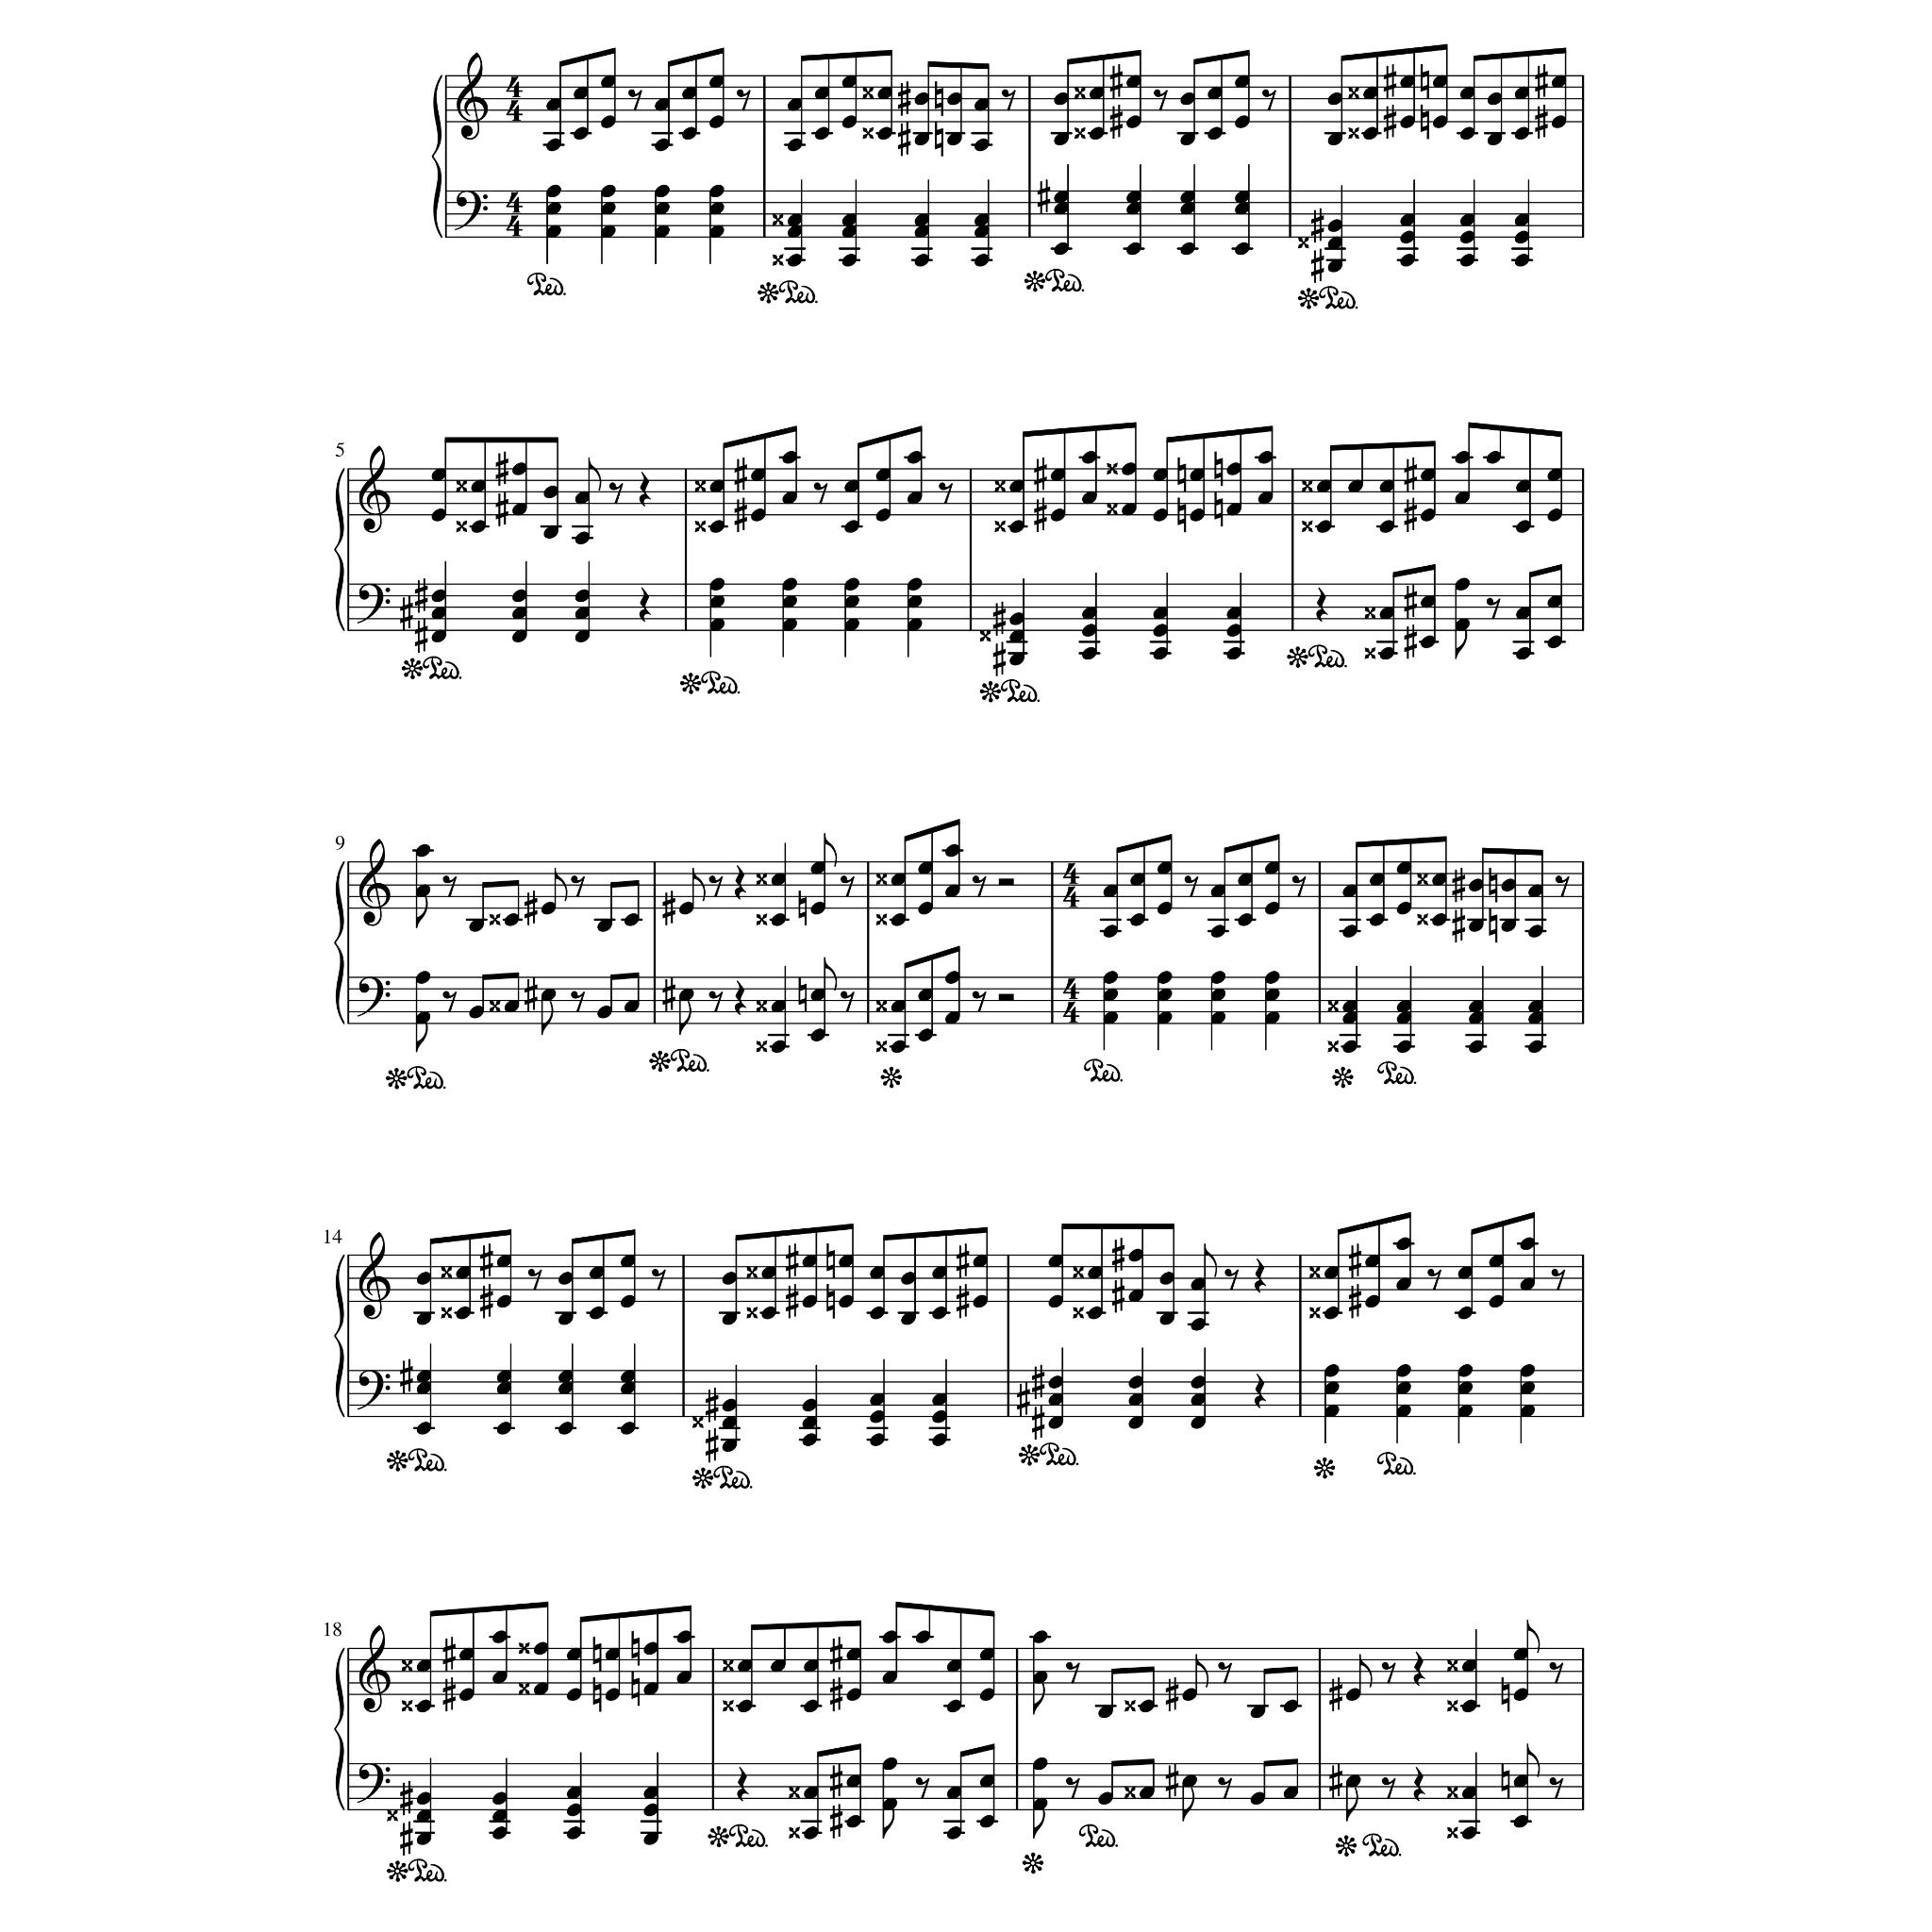brace: (333, 1647, 345, 1812), (333, 469, 345, 632), (333, 862, 345, 1024), (333, 1254, 345, 1417), (432, 74, 442, 239)
fClef: (453, 191, 488, 232), (357, 584, 391, 625), (357, 977, 391, 1017), (357, 1369, 391, 1410), (357, 1762, 391, 1803)
flag8thDown: (541, 1000, 554, 1035), (416, 893, 428, 929), (679, 1000, 692, 1035), (1454, 626, 1467, 660), (416, 1019, 428, 1053), (1182, 1787, 1194, 1821), (1033, 1805, 1046, 1838), (1033, 1681, 1046, 1714), (1346, 1787, 1359, 1821), (883, 1805, 895, 1838)
flag8thUp: (823, 833, 837, 869), (1527, 1743, 1541, 1778), (587, 458, 602, 492), (692, 869, 706, 902), (823, 957, 837, 991), (1203, 1244, 1217, 1277), (1527, 1621, 1541, 1654), (1359, 1654, 1373, 1688), (556, 869, 568, 902), (1196, 1654, 1208, 1688)
gClef: (456, 51, 488, 140), (359, 446, 391, 534), (359, 839, 391, 927), (359, 1231, 391, 1320), (359, 1624, 391, 1713)
noteheadBlack: (545, 202, 563, 216), (545, 225, 563, 239), (545, 97, 563, 111), (545, 138, 563, 152), (573, 589, 591, 603), (573, 630, 591, 644), (1341, 924, 1359, 938), (1341, 885, 1359, 899), (1341, 1040, 1359, 1054), (1341, 1000, 1359, 1014), (502, 913, 520, 927), (502, 1000, 520, 1014), (1127, 1375, 1145, 1389), (1127, 1415, 1145, 1430), (1127, 1288, 1145, 1302), (587, 1306, 605, 1320), (587, 1265, 605, 1279), (971, 1254, 989, 1269), (971, 1295, 989, 1309), (1235, 242, 1251, 257), (1235, 202, 1251, 216), (1207, 87, 1223, 101), (1327, 219, 1343, 234), (1327, 260, 1343, 274), (1327, 92, 1343, 106), (1327, 133, 1343, 147), (1090, 87, 1106, 101), (1180, 202, 1196, 216), (1180, 242, 1196, 257), (1180, 92, 1196, 106), (1180, 133, 1196, 147), (1125, 202, 1141, 216), (1125, 242, 1141, 257), (1514, 253, 1530, 267), (1514, 87, 1530, 101), (1486, 92, 1502, 106), (1486, 133, 1502, 147), (1399, 253, 1415, 267), (1362, 87, 1378, 101), (1460, 253, 1476, 267), (1460, 87, 1476, 101), (709, 202, 725, 216), (709, 225, 725, 239), (681, 87, 697, 101), (655, 202, 671, 216), (655, 225, 671, 239), (655, 97, 671, 111), (655, 138, 671, 152), (786, 97, 801, 111), (786, 225, 801, 239), (786, 253, 801, 267), (786, 138, 801, 152), (600, 202, 616, 216), (600, 225, 616, 239), (573, 87, 589, 101), (947, 92, 962, 106), (947, 133, 962, 147), (913, 225, 929, 239), (913, 253, 929, 267), (913, 92, 929, 106), (913, 133, 929, 147), (975, 225, 991, 239), (975, 253, 991, 267), (975, 97, 991, 111), (975, 138, 991, 152), (840, 225, 856, 239), (840, 253, 856, 267), (814, 87, 830, 101), (878, 87, 893, 101), (1316, 520, 1332, 534), (1226, 625, 1242, 639), (1226, 502, 1242, 517), (1316, 479, 1332, 494), (1081, 625, 1097, 639), (1049, 467, 1065, 481), (1049, 508, 1065, 522), (1152, 625, 1168, 639), (1189, 467, 1205, 481), (1189, 508, 1205, 522), (1152, 467, 1168, 481), (1152, 508, 1168, 522), (1122, 502, 1138, 517), (1546, 594, 1562, 609), (1546, 635, 1562, 649), (1546, 467, 1562, 481), (1546, 508, 1562, 522), (1516, 479, 1532, 494), (1516, 520, 1532, 534), (1419, 594, 1435, 609), (1419, 635, 1435, 649), (1419, 467, 1435, 481), (1419, 508, 1435, 522), (1378, 479, 1394, 494), (1378, 520, 1394, 534), (1346, 479, 1362, 494), (1454, 617, 1470, 632), (709, 594, 725, 609), (709, 617, 725, 632), (709, 479, 725, 494), (709, 520, 725, 534), (430, 589, 446, 603), (430, 630, 446, 644), (430, 467, 446, 481), (430, 508, 446, 522), (511, 589, 527, 603), (511, 630, 527, 644), (511, 502, 527, 517), (471, 479, 487, 494), (471, 520, 487, 534), (906, 617, 922, 632), (906, 594, 922, 609), (876, 467, 892, 481), (876, 508, 892, 522), (782, 594, 798, 609), (782, 617, 798, 632), (750, 467, 766, 481), (750, 508, 766, 522), (844, 520, 860, 534), (844, 617, 860, 632), (844, 594, 860, 609), (844, 479, 860, 494), (1210, 924, 1226, 938), (1210, 885, 1226, 899), (1131, 913, 1146, 927), (1237, 913, 1253, 927), (945, 885, 961, 899), (945, 844, 961, 858), (1102, 924, 1118, 938), (1102, 885, 1118, 899), (1527, 924, 1543, 938), (1527, 885, 1543, 899), (1527, 1040, 1543, 1054), (1527, 1000, 1543, 1014), (1467, 1000, 1483, 1014), (1500, 918, 1516, 932), (1500, 878, 1516, 892), (1368, 913, 1384, 927), (1431, 913, 1447, 927), (1467, 918, 1483, 932), (1467, 878, 1483, 892), (1467, 1040, 1483, 1054), (1396, 1040, 1412, 1054), (1396, 1000, 1412, 1014), (596, 918, 612, 932), (596, 1005, 612, 1019), (623, 913, 639, 927), (623, 1000, 639, 1014), (414, 885, 430, 899), (414, 844, 430, 858), (469, 918, 485, 932), (469, 1005, 485, 1019), (890, 913, 906, 927), (890, 1040, 906, 1054), (890, 1000, 906, 1014), (810, 1028, 826, 1042), (918, 1028, 934, 1042), (770, 1040, 786, 1054), (770, 1000, 786, 1014), (770, 913, 786, 927), (1191, 1375, 1207, 1389), (1191, 1415, 1207, 1430), (1191, 1277, 1207, 1292), (1323, 1265, 1339, 1279), (1323, 1306, 1339, 1320), (1047, 1375, 1063, 1389), (1047, 1415, 1063, 1430), (1047, 1254, 1063, 1269), (1047, 1295, 1063, 1309), (1520, 1237, 1536, 1251), (1520, 1277, 1536, 1292), (1488, 1254, 1504, 1269), (1488, 1295, 1504, 1309), (1364, 1254, 1380, 1269), (1364, 1295, 1380, 1309), (1458, 1265, 1474, 1279), (1458, 1306, 1474, 1320), (1396, 1237, 1412, 1251), (1396, 1277, 1412, 1292), (557, 1369, 573, 1384), (722, 1398, 738, 1412), (722, 1415, 738, 1430), (722, 1438, 738, 1453), (621, 1369, 637, 1384), (621, 1254, 637, 1269), (621, 1295, 637, 1309), (416, 1369, 432, 1384), (495, 1369, 511, 1384), (495, 1254, 511, 1269), (495, 1295, 511, 1309), (455, 1265, 471, 1279), (455, 1306, 471, 1320), (869, 1410, 885, 1424), (869, 1265, 885, 1279), (869, 1306, 885, 1320), (839, 1254, 855, 1269), (839, 1295, 855, 1309), (932, 1265, 948, 1279), (932, 1410, 948, 1424), (932, 1306, 948, 1320), (761, 1306, 777, 1320), (801, 1254, 817, 1269), (801, 1295, 817, 1309), (801, 1415, 817, 1430), (761, 1265, 777, 1279), (801, 1398, 817, 1412), (1182, 1688, 1198, 1702), (1283, 1785, 1299, 1799), (1283, 1698, 1299, 1713), (1031, 1757, 1047, 1771), (1031, 1796, 1047, 1810), (1031, 1629, 1047, 1644), (1031, 1670, 1047, 1684), (1138, 1785, 1154, 1799), (1138, 1698, 1154, 1713), (1513, 1688, 1529, 1702), (1345, 1688, 1361, 1702), (1461, 1785, 1477, 1799), (1461, 1826, 1477, 1840), (1461, 1660, 1477, 1674), (1461, 1698, 1477, 1713), (566, 1826, 582, 1840), (566, 1803, 582, 1817), (566, 1785, 582, 1799), (566, 1688, 582, 1702), (605, 1688, 621, 1702), (738, 1698, 754, 1713), (676, 1629, 692, 1644), (676, 1670, 692, 1684), (642, 1785, 658, 1799), (642, 1803, 658, 1817), (642, 1831, 658, 1845), (416, 1698, 432, 1713), (416, 1660, 432, 1674), (416, 1831, 432, 1845), (416, 1808, 432, 1822), (492, 1808, 508, 1822), (492, 1826, 508, 1840), (492, 1629, 508, 1644), (492, 1670, 508, 1684), (458, 1688, 474, 1702), (881, 1796, 897, 1810), (881, 1670, 897, 1684), (881, 1629, 897, 1644), (881, 1757, 897, 1771), (738, 1660, 754, 1674), (846, 1688, 862, 1702), (947, 1660, 962, 1674), (978, 1688, 994, 1702), (947, 1785, 962, 1799), (947, 1826, 962, 1840), (947, 1698, 962, 1713), (915, 1629, 931, 1644), (770, 1660, 786, 1674), (803, 1826, 819, 1840), (803, 1785, 819, 1799), (803, 1660, 819, 1674), (803, 1698, 819, 1713), (545, 186, 563, 198), (1256, 451, 1274, 464), (1256, 492, 1274, 504), (573, 607, 591, 619), (573, 492, 591, 504), (573, 533, 591, 545), (1155, 971, 1173, 984), (1155, 902, 1173, 915), (1155, 862, 1173, 874), (1155, 1012, 1173, 1024), (1155, 989, 1173, 1001), (1341, 1012, 1359, 1024), (1127, 1394, 1145, 1407), (1127, 1249, 1145, 1261), (1054, 202, 1069, 216), (1054, 242, 1069, 257), (1054, 92, 1069, 106), (1054, 133, 1069, 147), (1010, 612, 1024, 626), (1010, 630, 1024, 644), (1010, 653, 1024, 667), (1010, 479, 1024, 494), (1010, 520, 1024, 534), (1088, 1265, 1102, 1279), (1088, 1306, 1102, 1320), (1235, 76, 1251, 88), (1235, 191, 1251, 203), (1235, 117, 1251, 129), (1207, 127, 1223, 140), (1327, 237, 1343, 249), (1125, 117, 1141, 129), (1090, 127, 1106, 140), (1125, 76, 1141, 88), (1180, 191, 1196, 203), (1125, 191, 1141, 203), (1514, 232, 1530, 244), (1514, 214, 1530, 226), (1514, 127, 1530, 140), (1399, 214, 1415, 226), (1399, 232, 1415, 244), (1399, 76, 1415, 88), (1399, 117, 1415, 129), (1362, 127, 1378, 140), (1460, 214, 1476, 226), (1460, 232, 1476, 244), (1460, 127, 1476, 140), (1431, 76, 1447, 88), (1431, 117, 1447, 129), (709, 186, 725, 198), (709, 76, 725, 88), (709, 117, 725, 129), (681, 127, 697, 140), (655, 186, 671, 198), (786, 214, 801, 226), (600, 117, 616, 129), (600, 186, 616, 198), (600, 76, 616, 88), (573, 127, 589, 140), (913, 214, 929, 226), (975, 214, 991, 226), (840, 117, 856, 129), (840, 214, 856, 226), (840, 76, 856, 88), (814, 127, 830, 140), (878, 127, 893, 140), (1226, 607, 1242, 619), (1226, 648, 1242, 660), (1226, 464, 1242, 476), (1081, 607, 1097, 619), (1081, 648, 1097, 660), (1081, 451, 1097, 464), (1081, 492, 1097, 504), (1152, 607, 1168, 619), (1152, 648, 1168, 660), (1122, 464, 1138, 476), (1516, 607, 1532, 619), (1516, 648, 1532, 660), (1378, 607, 1394, 619), (1378, 648, 1394, 660), (1454, 579, 1470, 591), (1486, 451, 1502, 464), (1454, 451, 1470, 464), (1454, 492, 1470, 504), (543, 487, 559, 499), (543, 525, 559, 538), (709, 579, 725, 591), (430, 607, 446, 619), (511, 464, 527, 476), (511, 607, 527, 619), (906, 579, 922, 591), (906, 451, 922, 464), (906, 492, 922, 504), (782, 579, 798, 591), (782, 451, 798, 464), (782, 492, 798, 504), (844, 579, 860, 591), (1210, 1012, 1226, 1024), (1131, 874, 1146, 886), (1263, 902, 1279, 915), (1263, 862, 1279, 874), (1263, 1012, 1279, 1024), (1263, 989, 1279, 1001), (1263, 971, 1279, 984), (1210, 989, 1226, 1001), (1237, 874, 1253, 886), (1210, 971, 1226, 984), (945, 1012, 961, 1024), (945, 971, 961, 984), (1102, 1012, 1118, 1024), (1102, 989, 1118, 1001), (1102, 971, 1118, 984), (1527, 1012, 1543, 1024), (1467, 1012, 1483, 1024), (1431, 874, 1447, 886), (1368, 874, 1384, 886), (1396, 902, 1412, 915), (1396, 862, 1412, 874), (1396, 1012, 1412, 1024), (540, 902, 556, 915), (540, 989, 556, 1001), (679, 902, 695, 915), (679, 989, 695, 1001), (414, 1012, 430, 1024), (414, 971, 430, 984), (890, 874, 906, 886), (810, 902, 826, 915), (810, 862, 826, 874), (810, 989, 826, 1001), (918, 902, 934, 915), (918, 862, 934, 874), (918, 989, 934, 1001), (770, 874, 786, 886), (1191, 1318, 1207, 1330), (1191, 1394, 1207, 1407), (1159, 1272, 1175, 1284), (1159, 1313, 1175, 1325), (1323, 1364, 1339, 1376), (1323, 1382, 1339, 1394), (1323, 1405, 1339, 1417), (1047, 1394, 1063, 1407), (1520, 1364, 1536, 1376), (1520, 1382, 1536, 1394), (1520, 1405, 1536, 1417), (1458, 1364, 1474, 1376), (1458, 1382, 1474, 1394), (1458, 1405, 1474, 1417), (1396, 1364, 1412, 1376), (1396, 1382, 1412, 1394), (1396, 1405, 1412, 1417), (557, 1313, 573, 1325), (557, 1382, 573, 1394), (557, 1422, 573, 1435), (557, 1272, 573, 1284), (722, 1272, 738, 1284), (722, 1313, 738, 1325), (621, 1382, 637, 1394), (621, 1422, 637, 1435), (416, 1382, 432, 1394), (416, 1422, 432, 1435), (416, 1272, 432, 1284), (416, 1313, 432, 1325), (495, 1382, 511, 1394), (495, 1422, 511, 1435), (869, 1394, 885, 1407), (869, 1433, 885, 1445), (932, 1394, 948, 1407), (932, 1433, 948, 1445), (899, 1272, 915, 1284), (899, 1313, 915, 1325), (801, 1433, 817, 1445), (1182, 1775, 1198, 1787), (1249, 1792, 1265, 1805), (1249, 1706, 1265, 1718), (1097, 1792, 1113, 1805), (1097, 1706, 1113, 1718), (1513, 1775, 1529, 1787), (1513, 1815, 1529, 1828), (1513, 1649, 1529, 1661), (1345, 1775, 1361, 1787), (566, 1649, 582, 1661), (605, 1649, 621, 1661), (533, 1642, 548, 1654), (533, 1683, 548, 1695), (642, 1642, 658, 1654), (642, 1683, 658, 1695), (416, 1792, 432, 1805), (492, 1792, 508, 1805), (978, 1815, 994, 1828), (458, 1649, 474, 1661), (846, 1815, 862, 1828), (846, 1649, 862, 1661), (978, 1775, 994, 1787), (978, 1649, 994, 1661), (846, 1775, 862, 1787), (1552, 76, 1566, 88), (1552, 117, 1566, 129), (1054, 191, 1069, 203)
rest8th: (938, 481, 954, 504), (1184, 876, 1200, 899), (971, 876, 987, 899), (971, 991, 987, 1014), (570, 876, 586, 899), (570, 991, 586, 1014), (708, 991, 724, 1014), (708, 876, 724, 899), (1426, 1269, 1442, 1292), (527, 1269, 543, 1292), (1065, 1661, 1081, 1684), (1065, 1778, 1081, 1799), (915, 1778, 931, 1799), (1486, 598, 1500, 621), (609, 481, 623, 504), (814, 481, 828, 504), (1292, 876, 1306, 899), (1555, 876, 1569, 899), (442, 876, 456, 899), (442, 991, 456, 1014), (840, 876, 855, 899), (840, 991, 855, 1014), (1224, 1269, 1238, 1292), (1552, 1269, 1566, 1292), (651, 1269, 665, 1292), (1217, 1661, 1231, 1684), (1550, 1661, 1564, 1684), (1382, 1661, 1396, 1684), (1261, 90, 1276, 111), (1154, 90, 1168, 111), (736, 90, 750, 111), (628, 90, 642, 111), (1001, 90, 1016, 111), (1217, 1778, 1231, 1799), (1550, 1778, 1564, 1799), (1382, 1778, 1396, 1799)
restHalf: (998, 878, 1014, 886), (998, 993, 1014, 1001)
restQuarter: (1254, 1373, 1267, 1410), (639, 587, 651, 623), (639, 472, 651, 508), (734, 865, 747, 901), (734, 980, 747, 1016), (1254, 1258, 1267, 1293), (1412, 1766, 1424, 1801), (1412, 1651, 1424, 1686), (736, 1766, 748, 1801), (1316, 587, 1327, 623)
